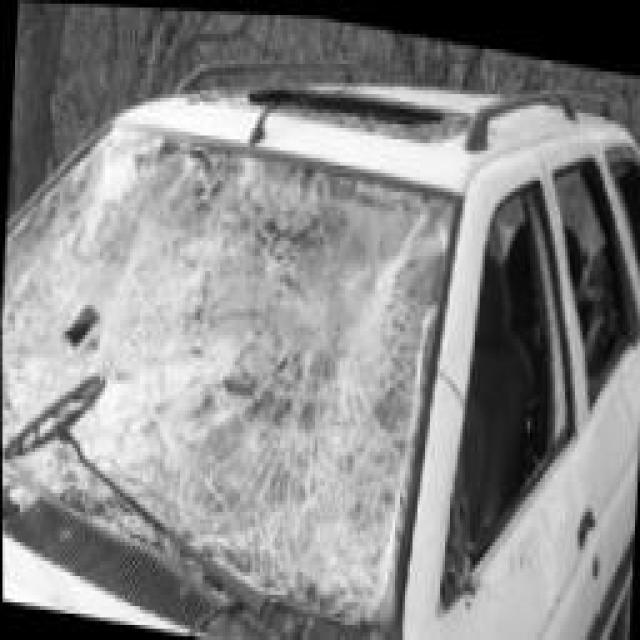Windshield: (1, 120, 450, 614)
